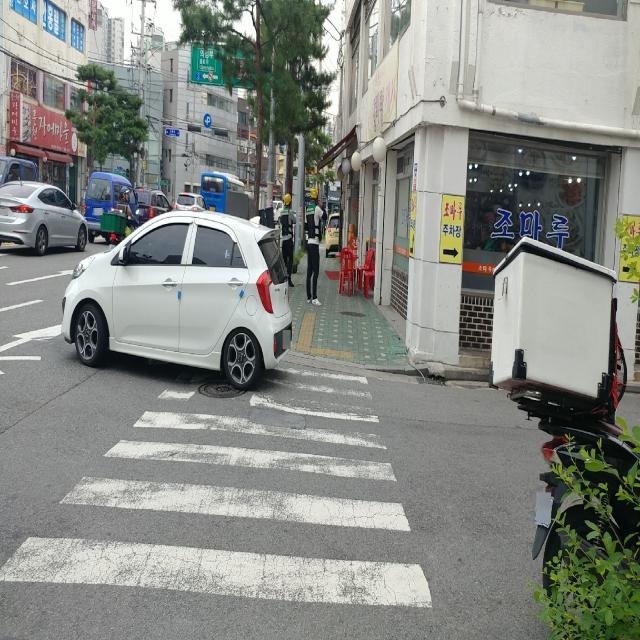횡단보도: (0, 364, 433, 611)
